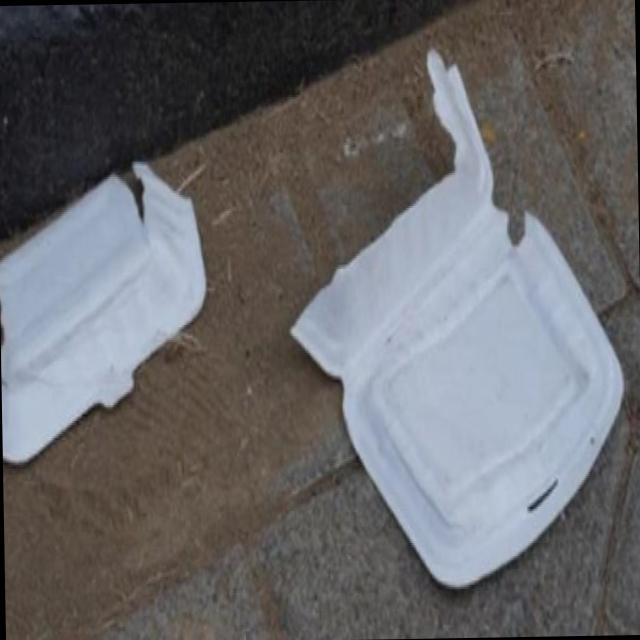electronic: (284, 41, 628, 594), (0, 155, 209, 466)
